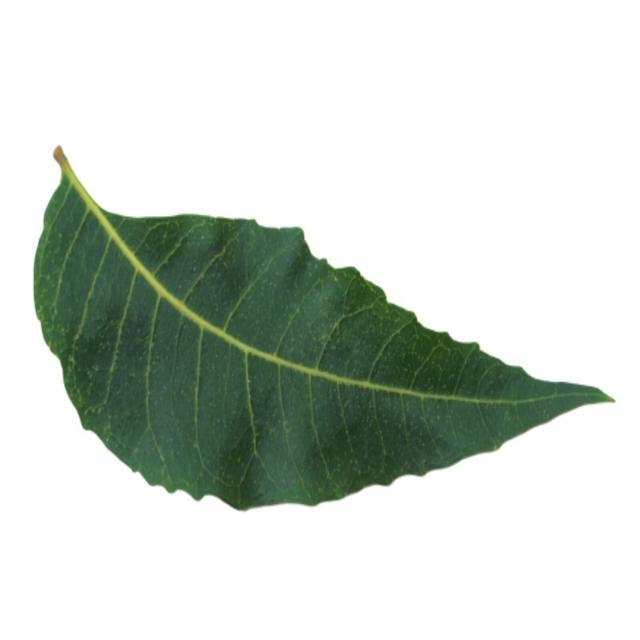Medicinal-Neem: (27, 136, 616, 510)
